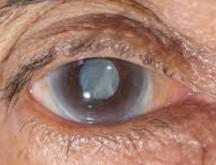eye: (51, 55, 149, 128)
